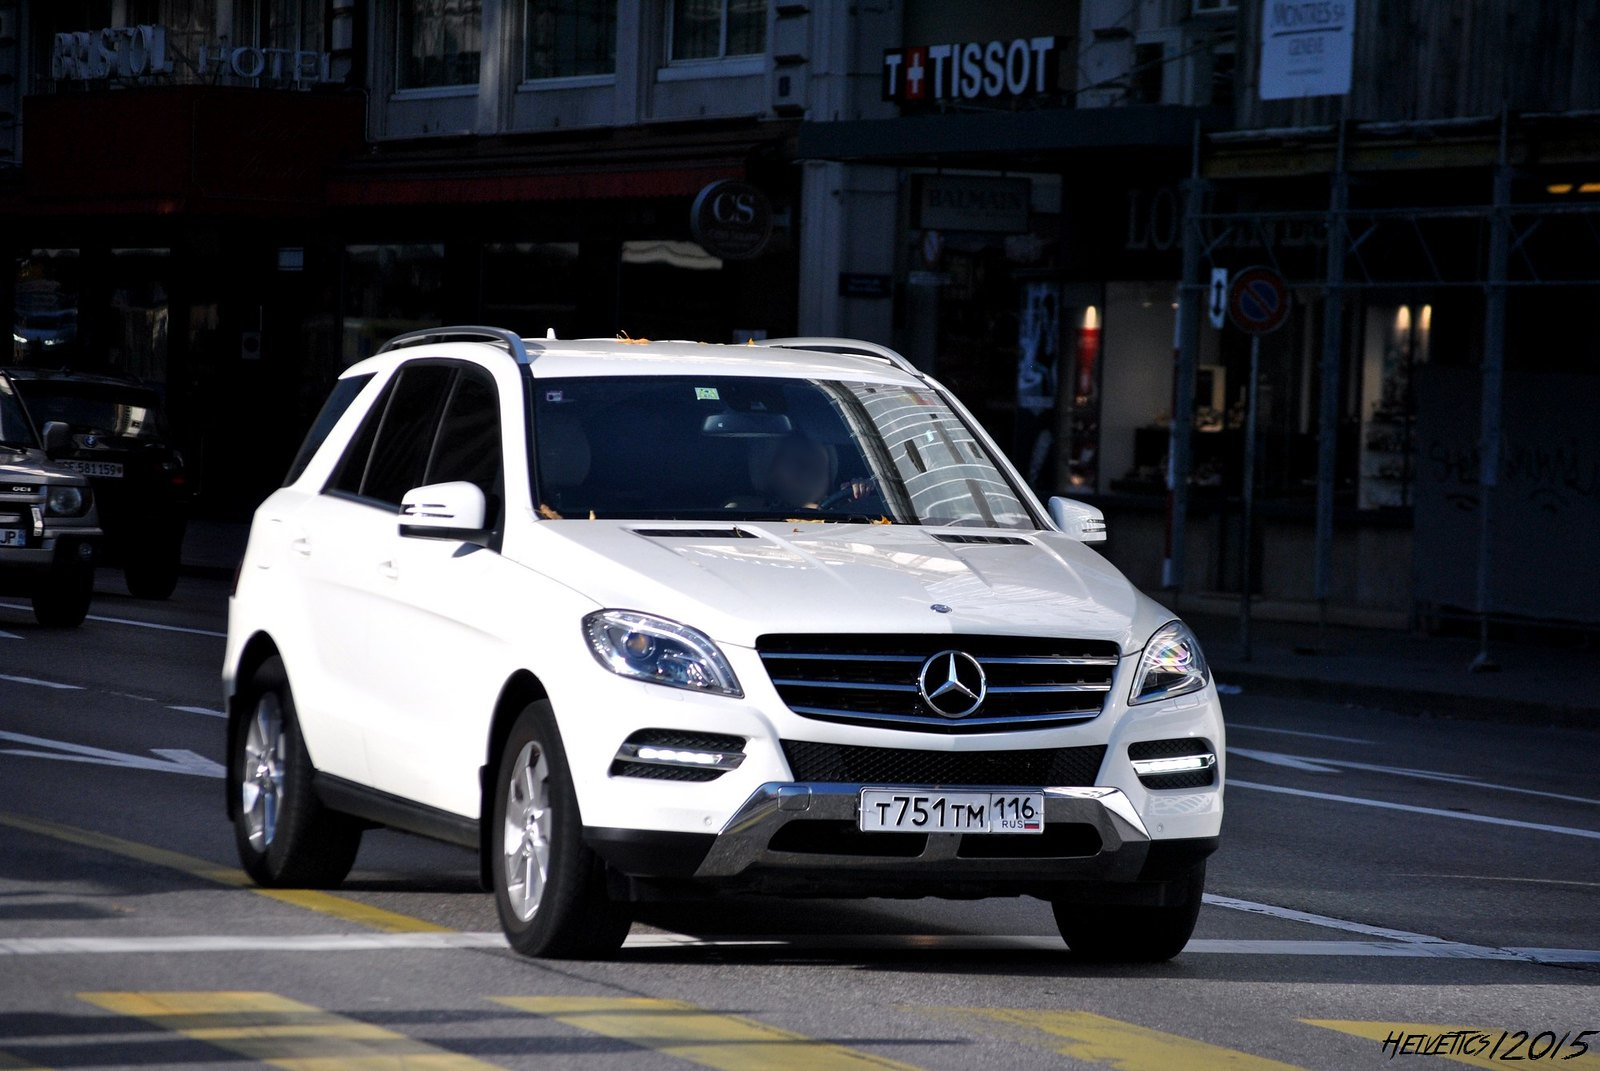car: (578, 596, 1228, 886)
plate: (859, 787, 1046, 835)
